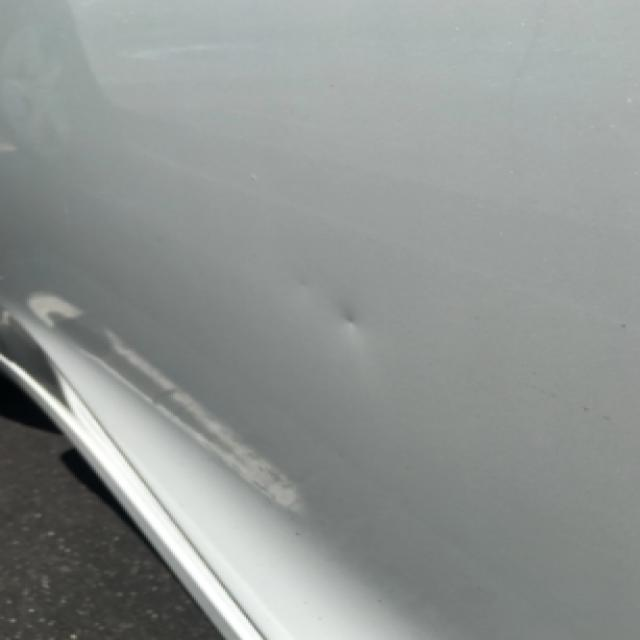dents: (290, 284, 466, 383)
